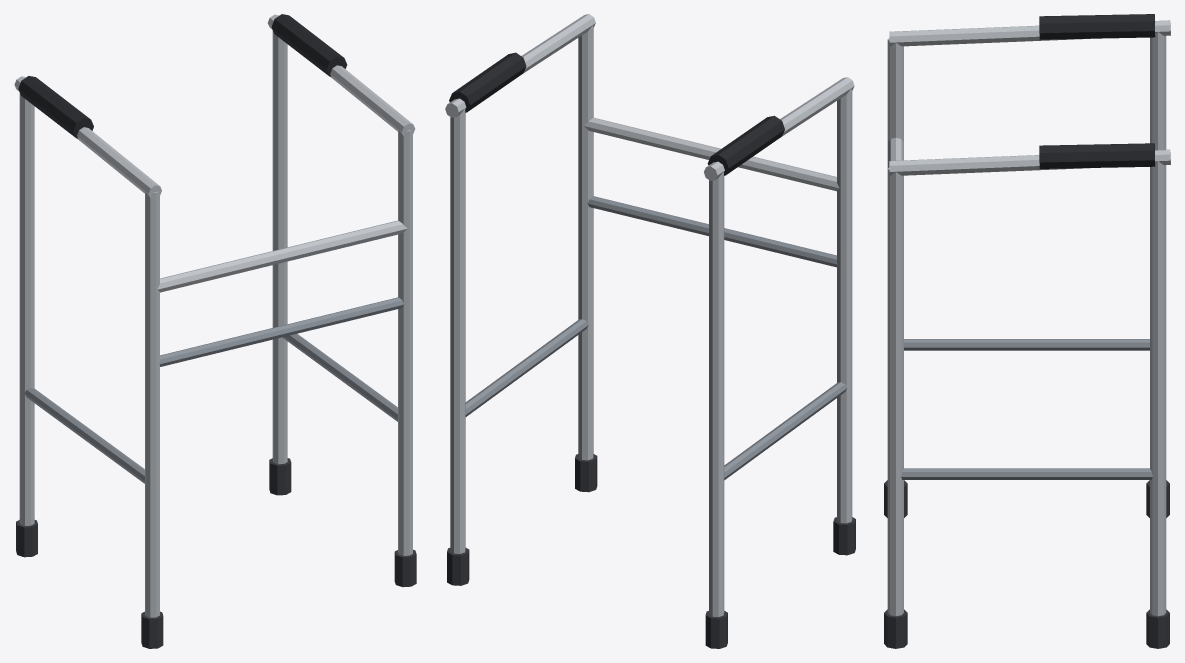
File: Andador.fbx
3 views of the same model, side by side, from view 1: azimuth 30°, elevation 25°; view 2: azimuth 150°, elevation 25°; view 3: azimuth 270°, elevation 25° (orthographic). The views are drawn at different scales.
Parts seen in each view (by area): view 1: Andador; view 2: Andador; view 3: Andador.
Boxes of the visible parts, <box> form: Andador: <box>14,14,416,648</box>; Andador: <box>445,14,855,648</box>; Andador: <box>884,14,1170,648</box>.
Bounding box in the file's own units: 0.53 × 0.884 × 0.4596.
1 material, 1 textured.
